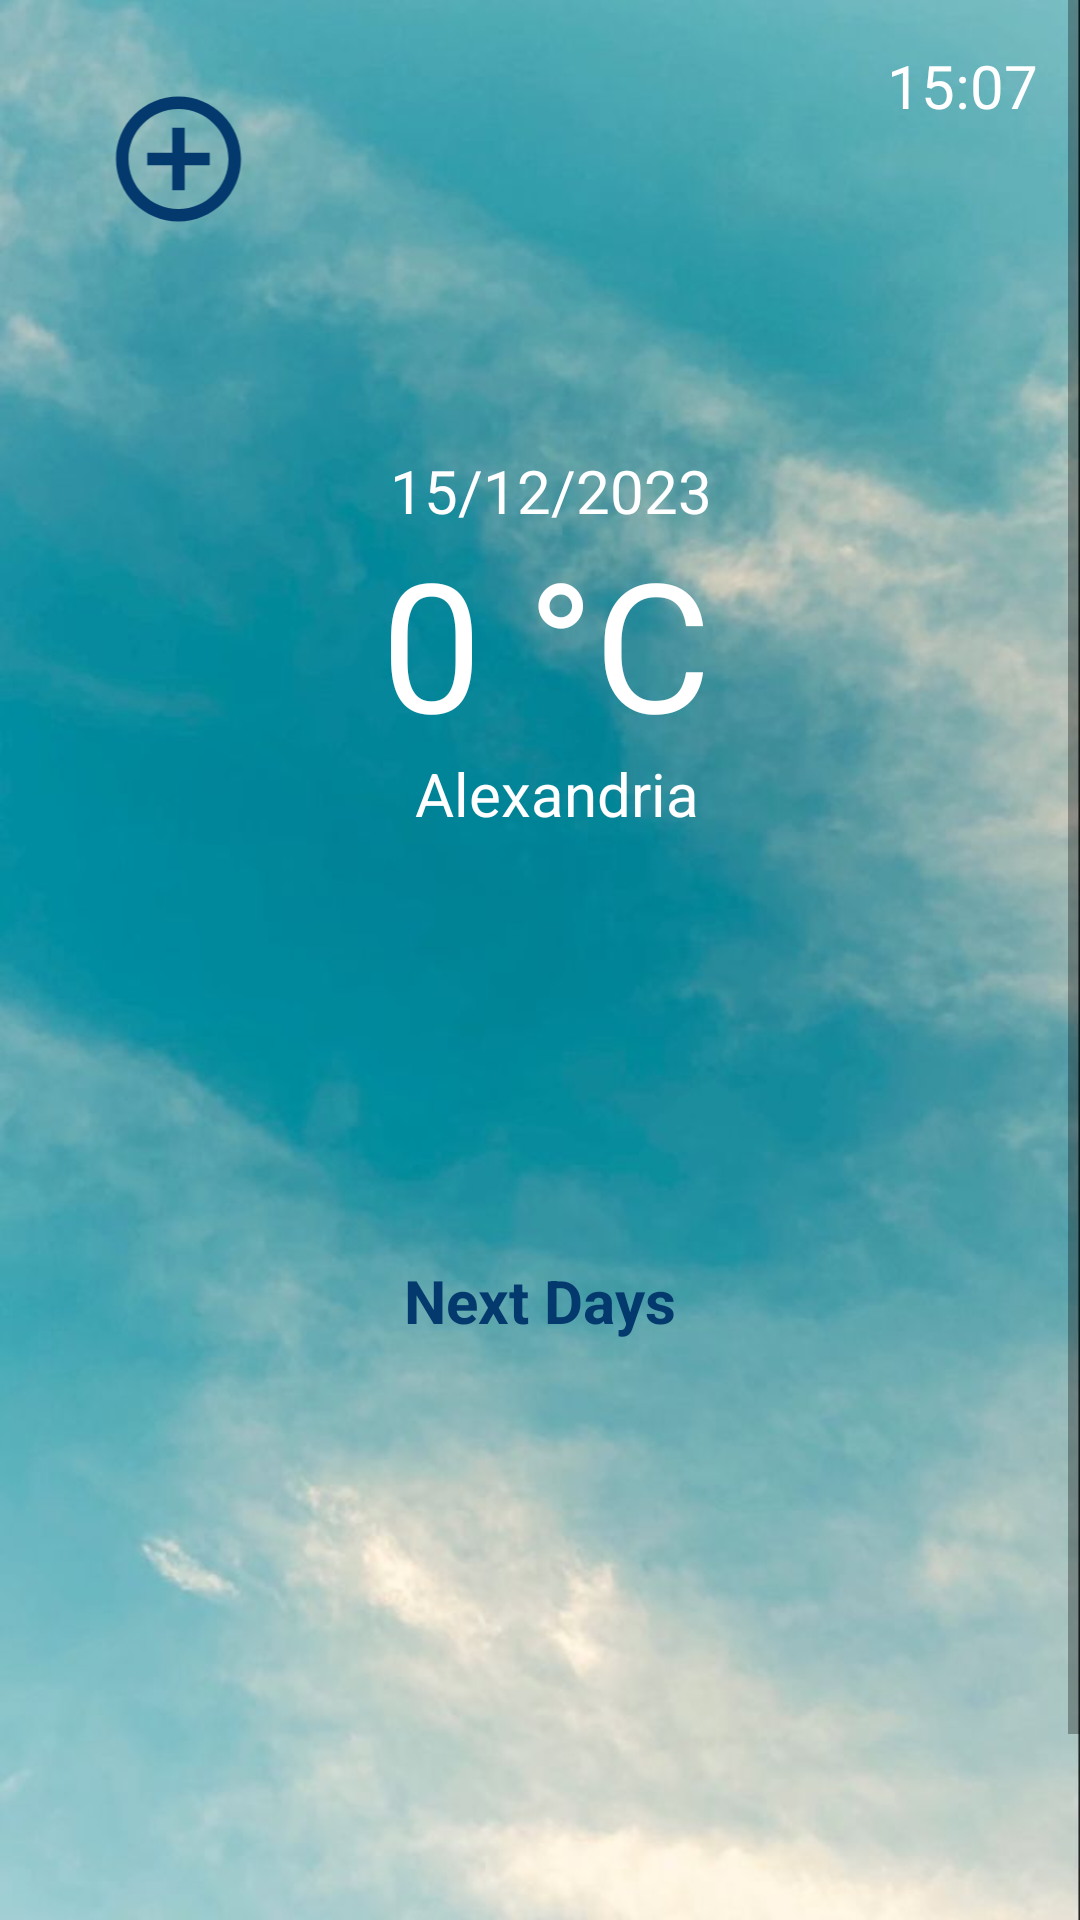

Icons on this 1080*1920 Android screen, each with its box as (x1, y1, x2, y2):
add to fav: (66, 84, 291, 234)
